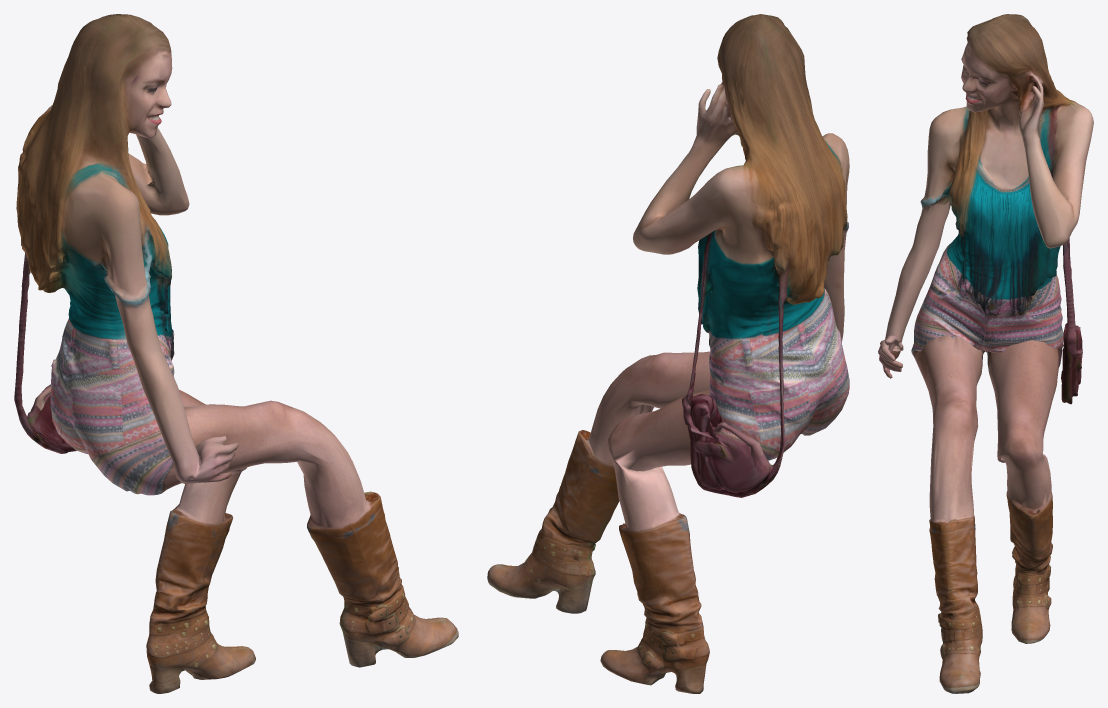
The model's file is people_girl_sedi.glb.
3 renders of one model, left to right at view 1: azimuth 30°, elevation 25°; view 2: azimuth 150°, elevation 25°; view 3: azimuth 270°, elevation 25°, orthographic. The views are drawn at different scales.
Size of the model in its own units: 0.8317 by 1.44 by 0.4896.
1 material, 1 textured.
